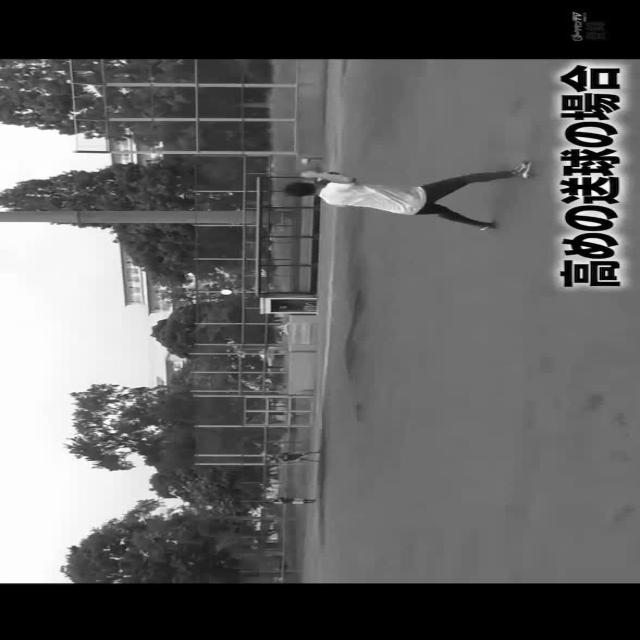shoe: (516, 157, 540, 179), (481, 220, 496, 232)
